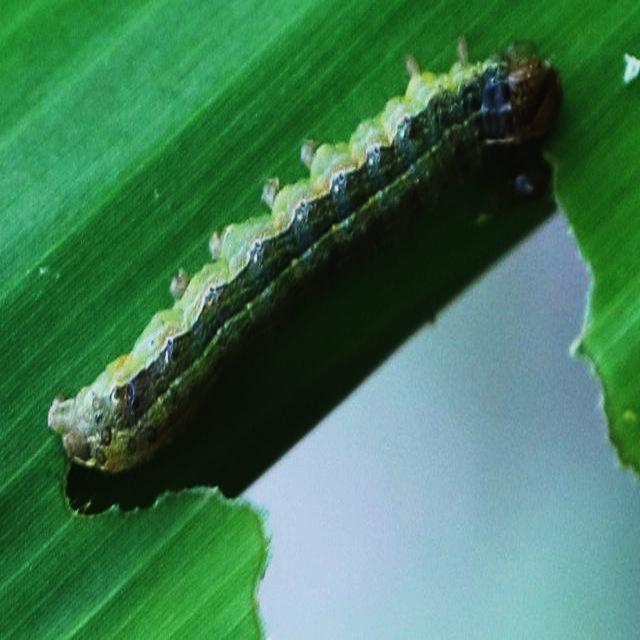gusano_cogollero: (46, 41, 558, 472)
